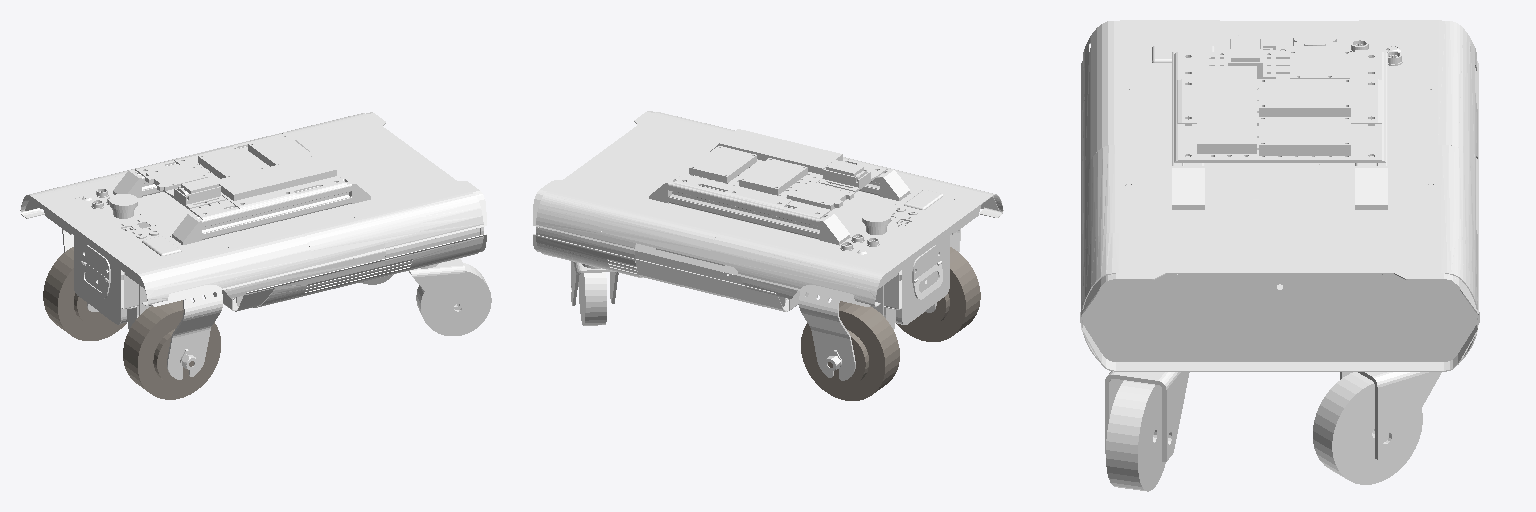
The robot description file, URDF, robot "neor":
<?xml version="1.0" encoding="utf-8"?>
<!-- This URDF was automatically created by SolidWorks to URDF Exporter! Originally created by [author] ([email redacted]) 
     Commit Version: 1.5.1-0-g916b5db  Build Version: 1.5.7152.31018
     For more information, please see http://wiki.ros.org/sw_urdf_exporter -->
<robot
  name="neor">
  <link 
    name="base_link">
    <!--
    <inertial>
      <origin
        xyz="0.167879507365628 -0.00359252647980702 0.119298610168138"
        rpy="0 0 0" />
      <mass
        value="1.99769813489116" />
      <inertia
        ixx="0.00884194890576968"
        ixy="-2.85763205109085E-07"
        ixz="1.13692269308844E-06"
        iyy="0.0122849475045731"
        iyz="2.62546849263556E-05"
        izz="0.0198557145704335" />
    </inertial>
    -->
    <visual>
      <origin
        xyz="0 0 0"
        rpy="0 0 0" />
      <geometry>
        <mesh
          filename="package://neor/meshes/base_link.STL" />
      </geometry>
      <material
        name="">
        <color
          rgba="1 1 1 1" />
      </material>
    </visual>
    <collision>
      <origin
        xyz="0 0 0"
        rpy="0 0 0" />
      <geometry>
        <mesh
          filename="package://neor/meshes/base_link.STL" />
      </geometry>
    </collision>
  </link>
  <link
    name="left_wheel_link">
    <inertial>
      <origin
        xyz="0 2.77555756156289E-17 6.93889390390723E-18"
        rpy="0 0 0" />
      <mass
        value="5.42406230688666" />
      <inertia
        ixx="0.00666461186501377"
        ixy="-4.34780728173011E-17"
        ixz="-3.46065314223795E-08"
        iyy="0.0108754737237616"
        iyz="1.48898597957356E-17"
        izz="0.00666462264232009" />
    </inertial>
    <visual>
      <origin
        xyz="0 0 0"
        rpy="0 0 0" />
      <geometry>
        <mesh
          filename="package://neor/meshes/left_wheel_link.STL" />
      </geometry>
      <material
        name="">
        <color
          rgba="0.647058823529412 0.619607843137255 0.588235294117647 1" />
      </material>
    </visual>
    <collision>
      <origin
        xyz="0 0 0"
        rpy="0 0 0" />
      <geometry>
        <mesh
          filename="package://neor/meshes/left_wheel_link.STL" />
      </geometry>
    </collision>
  </link>
  <joint
    name="left_wheel_joint"
    type="continuous">
    <origin
      xyz="0 0.11025 0"
      rpy="0 0 0" />
    <parent
      link="base_link" />
    <child
      link="left_wheel_link" />
    <axis
      xyz="0 1 0" />
    <limit
      lower="-3.14"
      upper="3.14"
      effort="0"
      velocity="0" />
  </joint>
  <link
    name="right_wheel_Link">
    <inertial>
      <origin
        xyz="1.11022302462516E-16 0 0"
        rpy="0 0 0" />
      <mass
        value="5.42406230688665" />
      <inertia
        ixx="0.00666458263690274"
        ixy="-4.33823931917284E-17"
        ixz="-5.3225217388757E-09"
        iyy="0.0108754737237616"
        iyz="1.47257298016766E-17"
        izz="0.0066646518704311" />
    </inertial>
    <visual>
      <origin
        xyz="0 0 0"
        rpy="0 0 0" />
      <geometry>
        <mesh
          filename="package://neor/meshes/right_wheel_Link.STL" />
      </geometry>
      <material
        name="">
        <color
          rgba="0.647058823529412 0.619607843137255 0.588235294117647 1" />
      </material>
    </visual>
    <collision>
      <origin
        xyz="0 0 0"
        rpy="0 0 0" />
      <geometry>
        <mesh
          filename="package://neor/meshes/right_wheel_Link.STL" />
      </geometry>
    </collision>
  </link>
  <joint
    name="right_wheel_joint"
    type="continuous">
    <origin
      xyz="0 -0.11025 0"
      rpy="0 0 0" />
    <parent
      link="base_link" />
    <child
      link="right_wheel_Link" />
    <axis
      xyz="0 1 0" />
    <limit
      lower="-3.14"
      upper="3.14"
      effort="0"
      velocity="0" />
  </joint>
  <link
    name="left_caster_Link">
    <inertial>
      <origin
        xyz="0.0115894835490932 -0.0160834240912808 -0.0271810314838372"
        rpy="0 0 0" />
      <mass
        value="0.0457759696915572" />
      <inertia
        ixx="4.32568497674313E-05"
        ixy="-2.58020492610068E-06"
        ixz="4.86678404730977E-06"
        iyy="4.49782650453277E-05"
        iyz="-6.75393340776466E-06"
        izz="4.36074022403523E-05" />
    </inertial>
    <visual>
      <origin
        xyz="0 0 0"
        rpy="0 0 0" />
      <geometry>
        <mesh
          filename="package://neor/meshes/left_caster_Link.STL" />
      </geometry>
      <material
        name="">
        <color
          rgba="1 1 1 1" />
      </material>
    </visual>
    <collision>
      <origin
        xyz="0 0 0"
        rpy="0 0 0" />
      <geometry>
        <mesh
          filename="package://neor/meshes/left_caster_Link.STL" />
      </geometry>
    </collision>
  </link>
  <joint
    name="left_caster_joint"
    type="continuous">
    <origin
      xyz="0.4006 0.1125 0.0465"
      rpy="0 0 0" />
    <parent
      link="base_link" />
    <child
      link="left_caster_Link" />
    <axis
      xyz="0 0 -1" />
    <limit
      lower="-3.14"
      upper="3.14"
      effort="0"
      velocity="0" />
  </joint>
  <link
    name="left_caster_wheel_Link">
    <inertial>
      <origin
        xyz="0 1.38777878078145E-17 0"
        rpy="0 0 0" />
      <mass
        value="0.232226528953357" />
      <inertia
        ixx="0.000250095566342319"
        ixy="6.15717679394067E-05"
        ixz="2.21629952945565E-19"
        iyy="0.000209016281398468"
        iyz="1.5657790917171E-19"
        izz="0.00016464860902793" />
    </inertial>
    <visual>
      <origin
        xyz="0 0 0"
        rpy="0 0 0" />
      <geometry>
        <mesh
          filename="package://neor/meshes/left_caster_wheel_Link.STL" />
      </geometry>
      <material
        name="">
        <color
          rgba="1 1 1 1" />
      </material>
    </visual>
    <collision>
      <origin
        xyz="0 0 0"
        rpy="0 0 0" />
      <geometry>
        <mesh
          filename="package://neor/meshes/left_caster_wheel_Link.STL" />
      </geometry>
    </collision>
  </link>
  <joint
    name="left_caster_wheel_joint"
    type="continuous">
    <origin
      xyz="0.024532 -0.034044 -0.066"
      rpy="0 0 0" />
    <parent
      link="left_caster_Link" />
    <child
      link="left_caster_wheel_Link" />
    <axis
      xyz="-0.81131 -0.58462 0" />
  </joint>
  <link
    name="right_caster_Link">
    <inertial>
      <origin
        xyz="0.0188041520422844 -0.00627670432990625 -0.0271810284056899"
        rpy="0 0 0" />
      <mass
        value="0.0457759516780475" />
      <inertia
        ixx="4.62921637504073E-05"
        ixy="-1.63379166334245E-06"
        ixz="7.89645340975582E-06"
        iyy="4.194292119082E-05"
        iyz="-2.6357777730359E-06"
        izz="4.36073573670601E-05" />
    </inertial>
    <visual>
      <origin
        xyz="0 0 0"
        rpy="0 0 0" />
      <geometry>
        <mesh
          filename="package://neor/meshes/right_caster_Link.STL" />
      </geometry>
      <material
        name="">
        <color
          rgba="1 1 1 1" />
      </material>
    </visual>
    <collision>
      <origin
        xyz="0 0 0"
        rpy="0 0 0" />
      <geometry>
        <mesh
          filename="package://neor/meshes/right_caster_Link.STL" />
      </geometry>
    </collision>
  </link>
  <joint
    name="right_caster_joint"
    type="continuous">
    <origin
      xyz="0.4006 -0.1125 0.0465"
      rpy="0 0 0" />
    <parent
      link="base_link" />
    <child
      link="right_caster_Link" />
    <axis
      xyz="0 0 -1" />
    <limit
      lower="-3.14"
      upper="3.14"
      effort="0"
      velocity="0" />
  </joint>
  <link
    name="right_caster_wheel_Link">
    <inertial>
      <origin
        xyz="-5.55111512312578E-17 0 0"
        rpy="0 0 0" />
      <mass
        value="0.232226528953358" />
      <inertia
        ixx="0.00017766232401311"
        ixy="3.89873545385007E-05"
        ixz="1.36110275740017E-19"
        iyy="0.000281449523727678"
        iyz="4.07814885635416E-19"
        izz="0.000164648609027931" />
    </inertial>
    <visual>
      <origin
        xyz="0 0 0"
        rpy="0 0 0" />
      <geometry>
        <mesh
          filename="package://neor/meshes/right_caster_wheel_Link.STL" />
      </geometry>
      <material
        name="">
        <color
          rgba="1 1 1 1" />
      </material>
    </visual>
    <collision>
      <origin
        xyz="0 0 0"
        rpy="0 0 0" />
      <geometry>
        <mesh
          filename="package://neor/meshes/right_caster_wheel_Link.STL" />
      </geometry>
    </collision>
  </link>
  <joint
    name="right_caster_wheel_joint"
    type="continuous">
    <origin
      xyz="0.039803 -0.013286 -0.066"
      rpy="0 0 0" />
    <parent
      link="right_caster_Link" />
    <child
      link="right_caster_wheel_Link" />
    <axis
      xyz="-0.31662 -0.94855 0" />
  </joint>
</robot>

--- Render facts (derived) ---
The picture shows the robot from 3 angles, left to right: view 1: azimuth 30°, elevation 25°; view 2: azimuth 150°, elevation 25°; view 3: azimuth 270°, elevation 25°; orthographic projection.
Robot: neor — 7 links, 6 joints (6 continuous); root link base_link; default pose: every joint at zero.
Visible links, largest first — view 1: base_link, right_wheel_Link, left_wheel_link, right_caster_wheel_Link, right_caster_Link; view 2: base_link, left_wheel_link, right_wheel_Link, left_caster_wheel_Link, left_caster_Link; view 3: base_link, left_caster_wheel_Link, right_caster_wheel_Link, left_caster_Link, right_caster_Link.
Boxes of the visible links, <box> form: base_link: <box>20,112,486,379</box>; right_wheel_Link: <box>123,300,220,399</box>; left_wheel_link: <box>43,247,126,340</box>; right_caster_wheel_Link: <box>416,263,491,335</box>; right_caster_Link: <box>409,258,464,320</box>; base_link: <box>533,111,1003,380</box>; left_wheel_link: <box>801,301,899,400</box>; right_wheel_Link: <box>896,247,980,341</box>; left_caster_wheel_Link: <box>578,272,606,325</box>; left_caster_Link: <box>571,261,618,305</box>; base_link: <box>1080,20,1479,371</box>; left_caster_wheel_Link: <box>1313,372,1422,484</box>; right_caster_wheel_Link: <box>1106,380,1165,491</box>; left_caster_Link: <box>1340,372,1441,459</box>; right_caster_Link: <box>1105,371,1189,461</box>.
Bounding box of the posed robot: 0.5688 × 0.357 × 0.2686 m (x, y, z).
7 mesh visuals loaded from 7 distinct referenced files (7 binary STL).